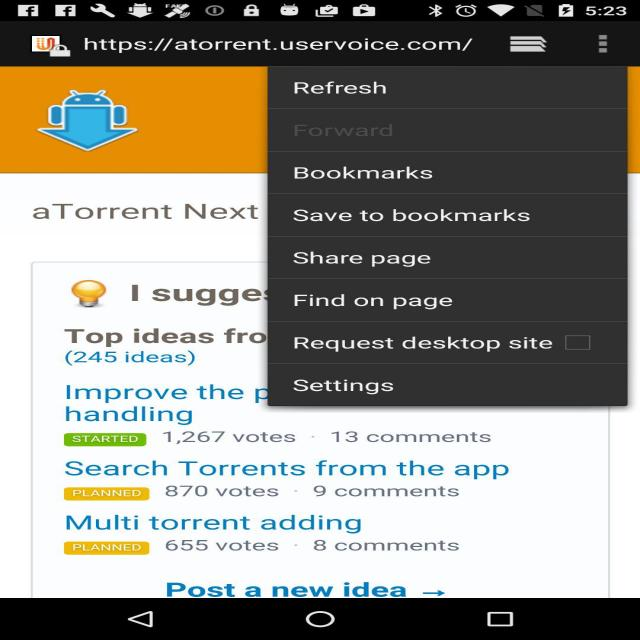icon: (17, 90, 178, 164), (42, 269, 126, 316)
text: (53, 451, 569, 511), (26, 407, 588, 452), (42, 507, 526, 557), (148, 568, 491, 608), (282, 328, 621, 362), (53, 316, 269, 369), (43, 381, 258, 427), (274, 204, 586, 235), (288, 156, 508, 192), (19, 195, 267, 226), (112, 270, 280, 313), (276, 288, 491, 315), (269, 115, 440, 148), (282, 369, 440, 396), (293, 250, 441, 276), (278, 72, 418, 98)
